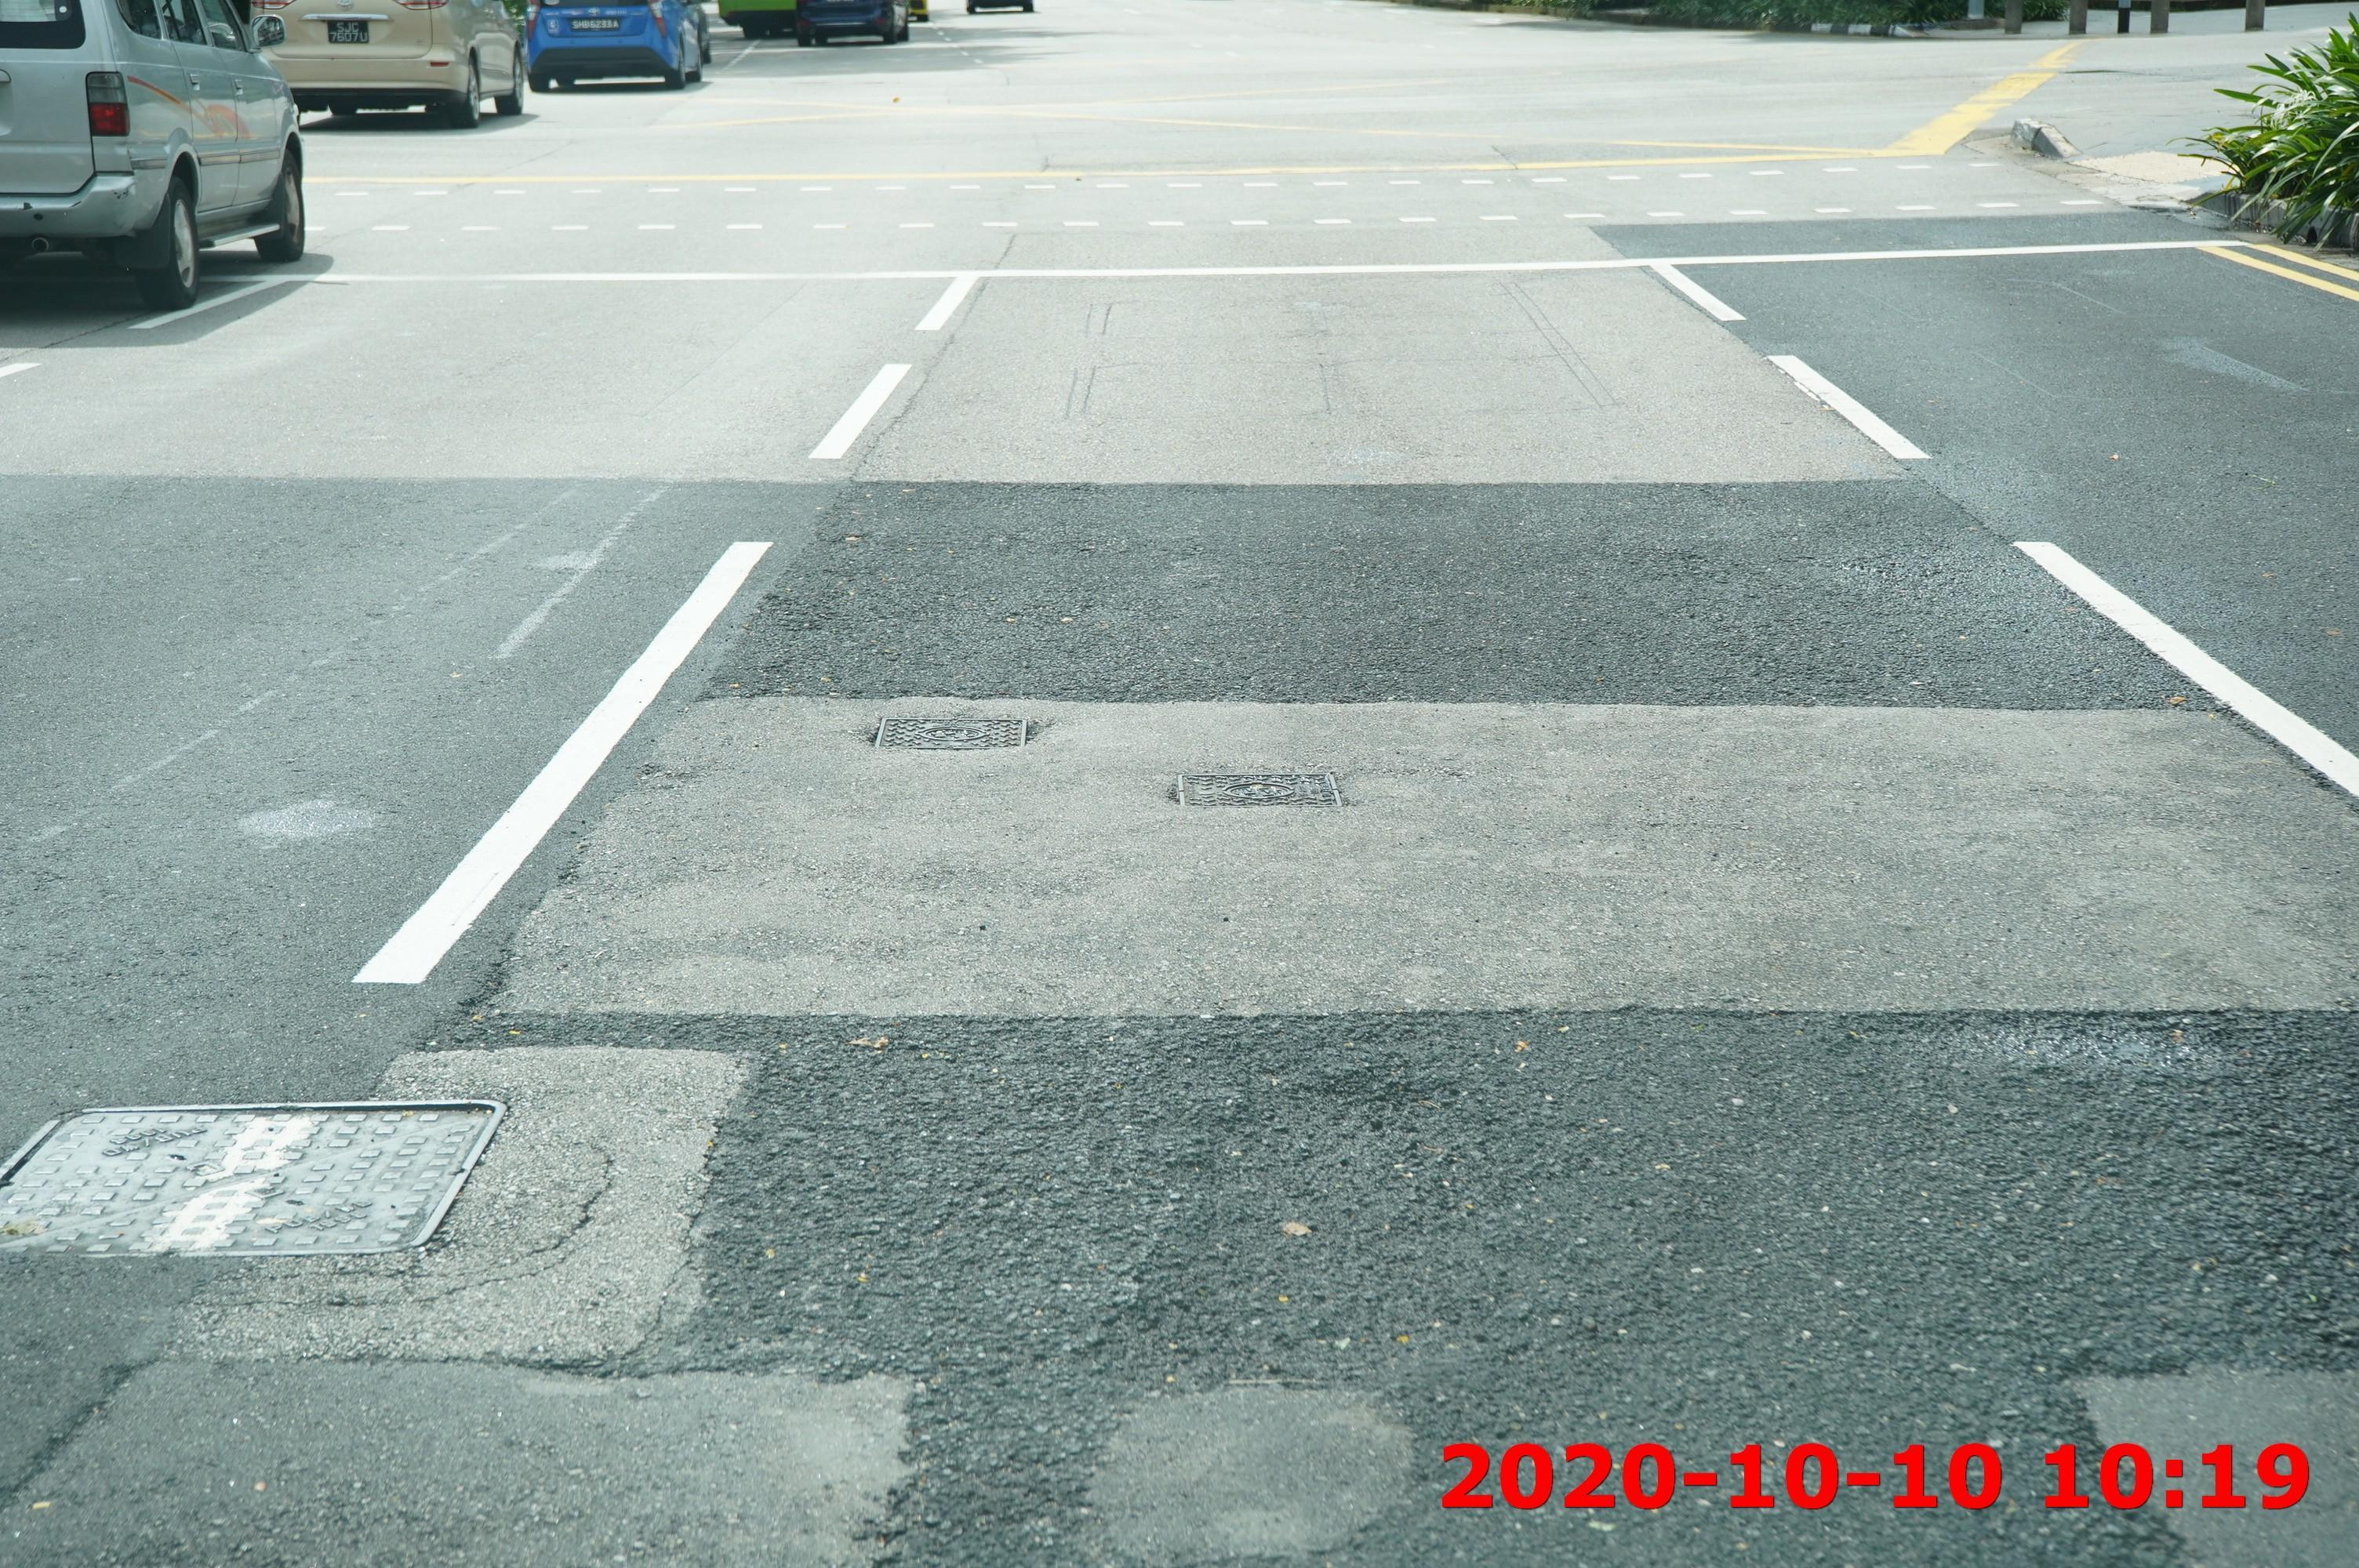wearing course peeling off: (1085, 1349, 1431, 1566)
